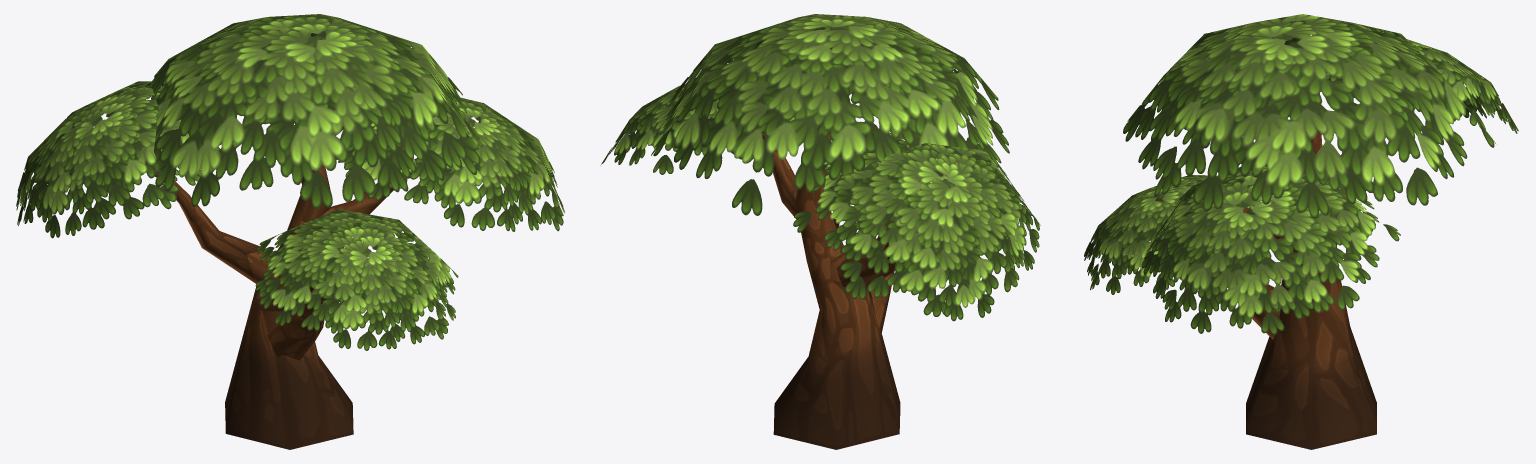
Rendered from LakeTree_02.FBX.
3 views of the same model, side by side, from view 1: azimuth 30°, elevation 25°; view 2: azimuth 150°, elevation 25°; view 3: azimuth 270°, elevation 25° (orthographic). The views are drawn at different scales.
Parts seen in each view (by area): view 1: LakeTree_02; view 2: LakeTree_02; view 3: LakeTree_02.
Boxes of the visible parts, x1,y1,x2,y2 form: LakeTree_02: (16, 14, 564, 449); LakeTree_02: (601, 14, 1040, 449); LakeTree_02: (1084, 14, 1518, 449).
Bounding box in the file's own units: 314 × 243 × 251.
